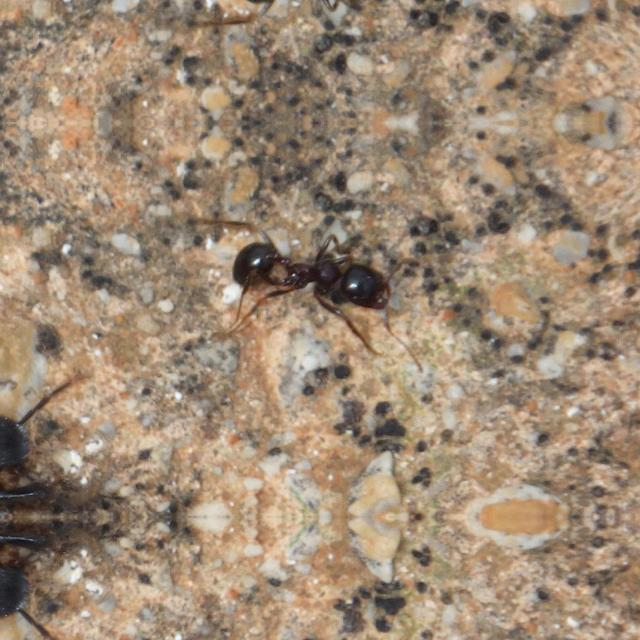Messor: (228, 218, 400, 330), (227, 0, 400, 26)
